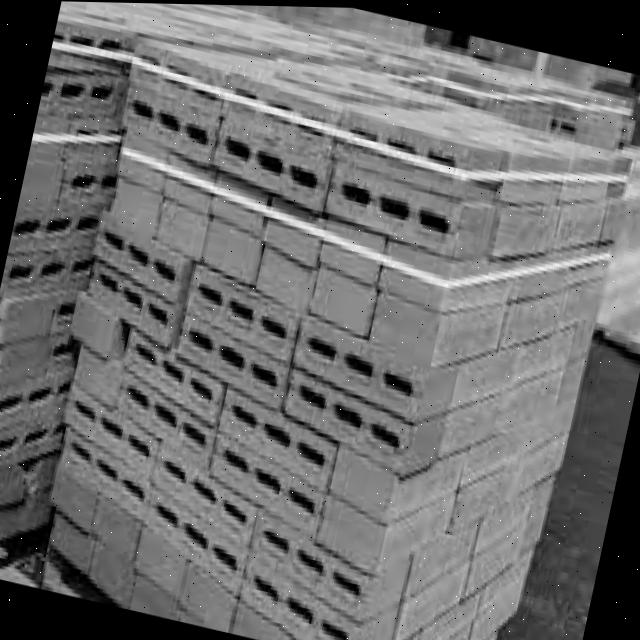bricks: (0, 1, 630, 640)
